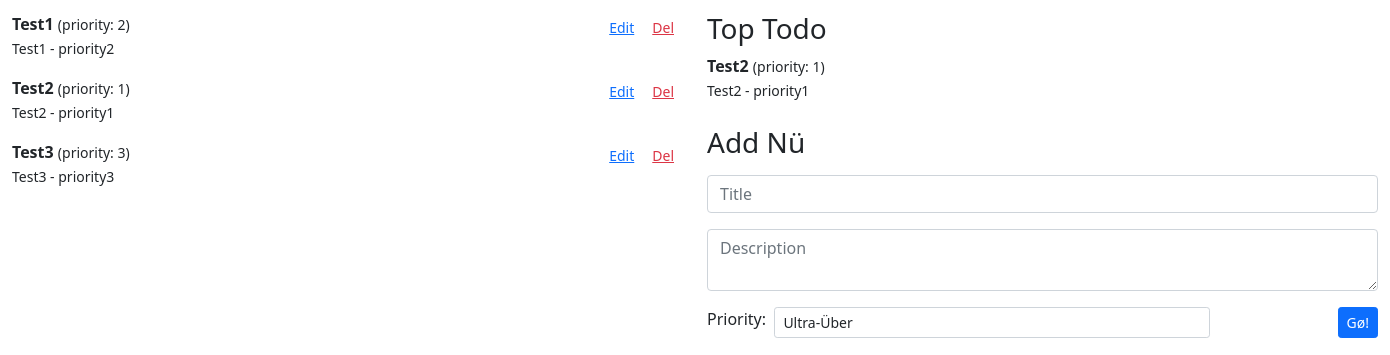
it: Test form functionality › Test if we can add a new Todo
Check: the text "Test4 - priority2" is not shown
# fill out the form
Step 1. Type "Test4" into the field with id "newTodo-title" → (1042, 194), box [707,175,1378,213]
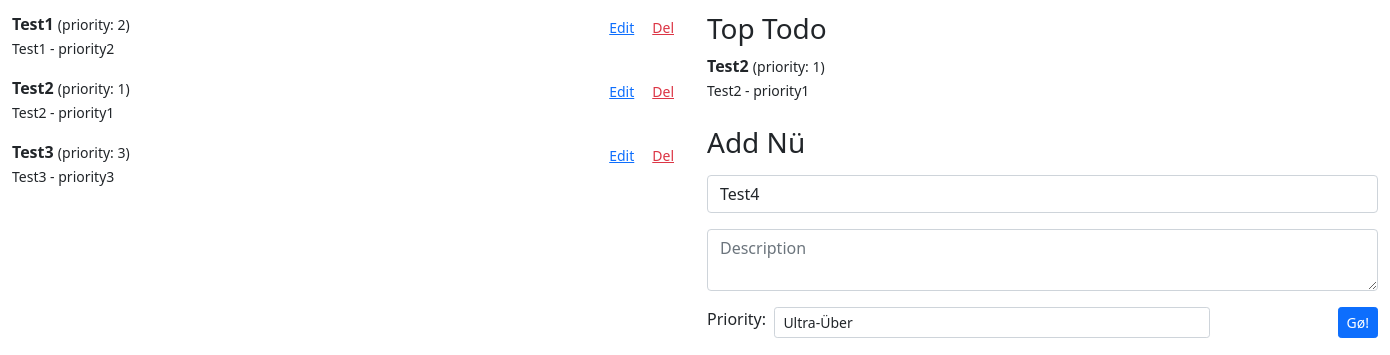
Step 2. Type "Test4 - priority2" into the text box with id "newTodo-description" → (1042, 260), box [707,229,1378,291]
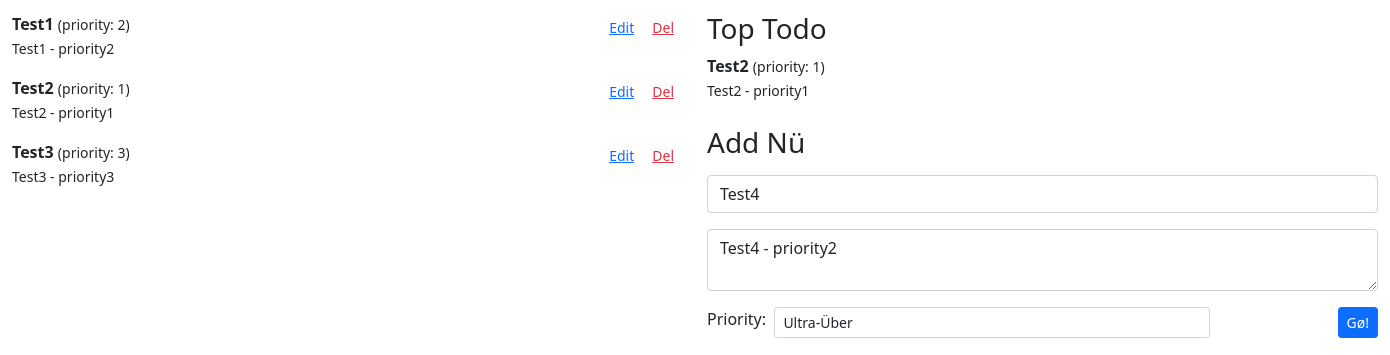
Step 3. Select "Über" in the dropdown with id "newTodo-priority" → (992, 323), box [774,307,1210,338]
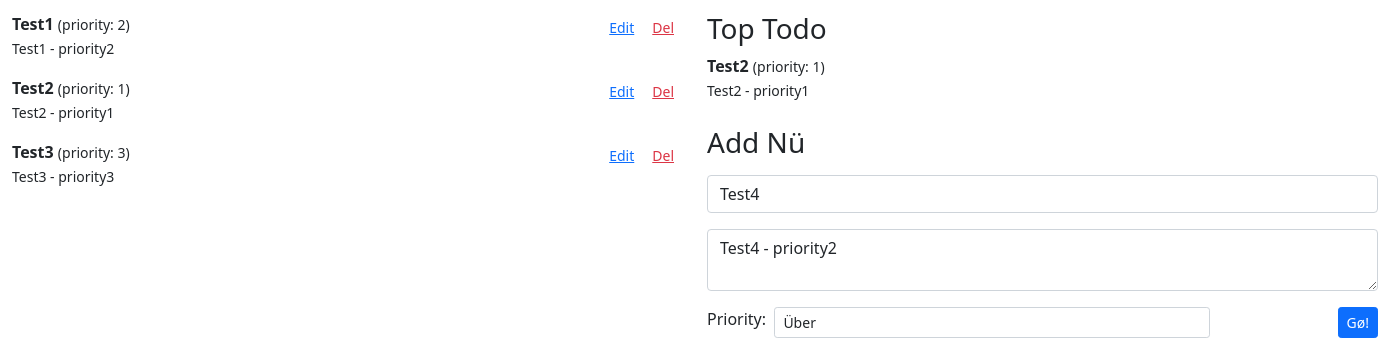
Step 4. Click the button with class "NewTodoForm-addBtn" → (1358, 323), box [1338,307,1378,338]
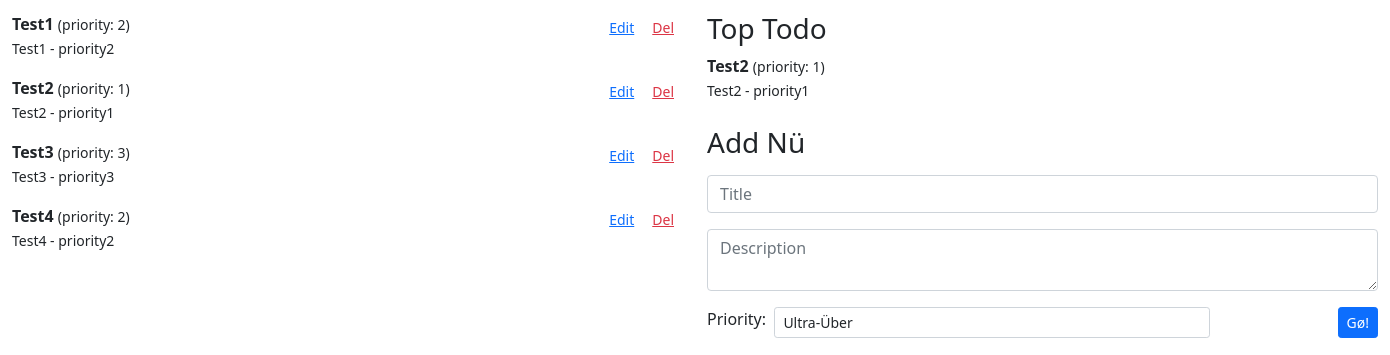
Check: the text "Test4 - priority2" is shown, box [12,231,114,250]
Check: the number of elements with class "Todo" is 5, box [12,13,130,58]; [12,77,130,122]; [12,141,130,186]; [12,205,130,250]; [707,55,825,100]
